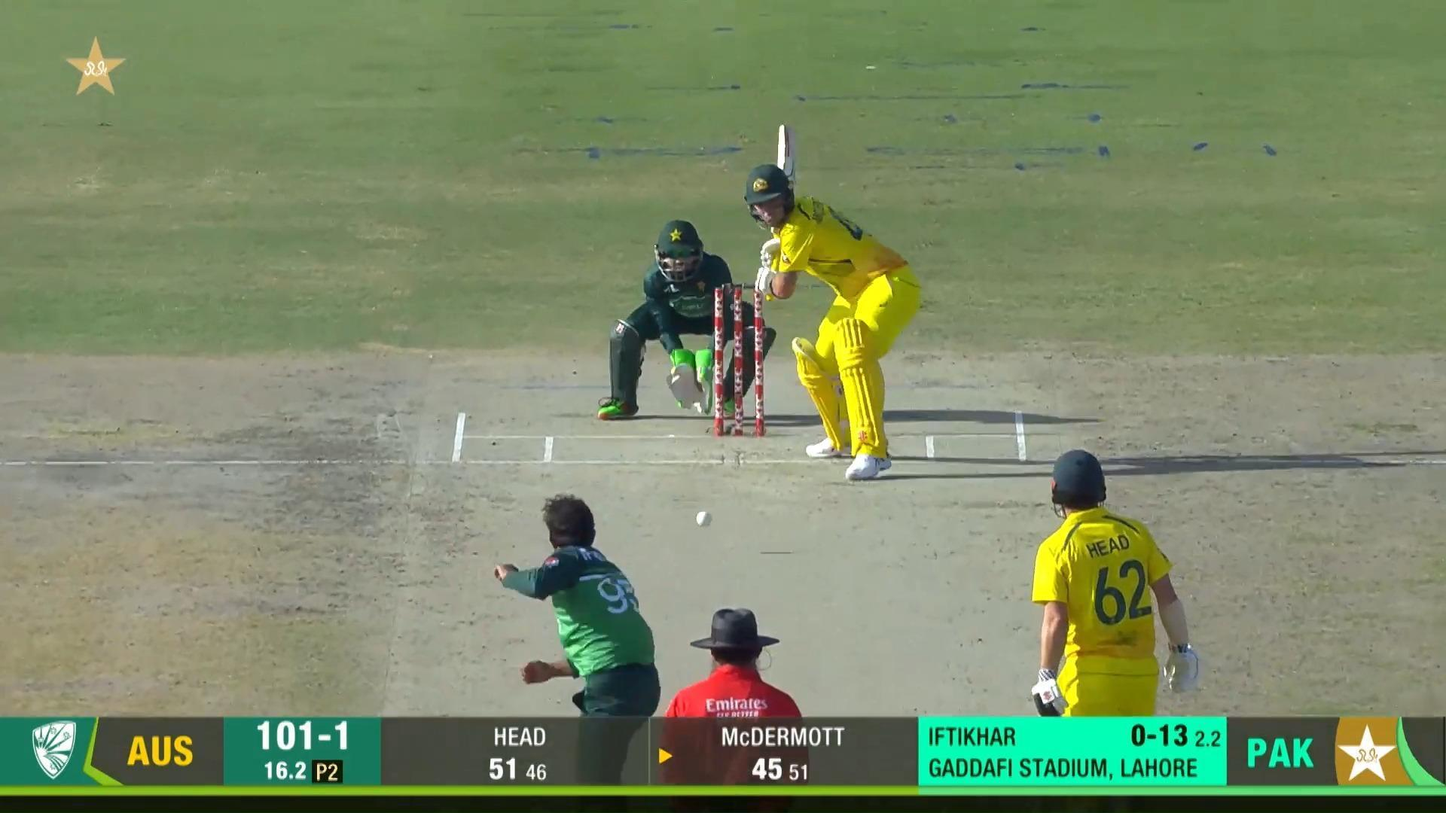BM 1: (743, 125, 923, 482)
BO: (490, 491, 665, 813)
